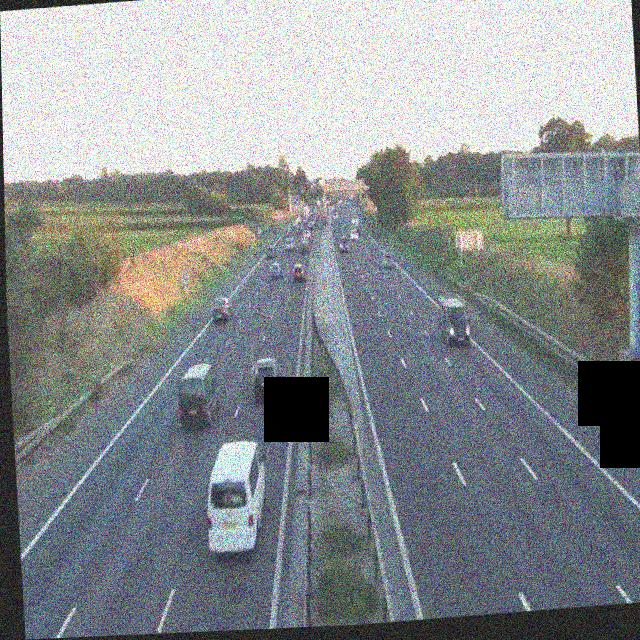car: (202, 439, 270, 554), (175, 362, 220, 428), (438, 294, 472, 348), (251, 354, 283, 401), (210, 296, 231, 322), (268, 258, 281, 278), (291, 262, 304, 280), (382, 253, 395, 269), (338, 236, 349, 252), (298, 241, 308, 255), (266, 242, 276, 256), (284, 239, 293, 253), (349, 227, 358, 241)
